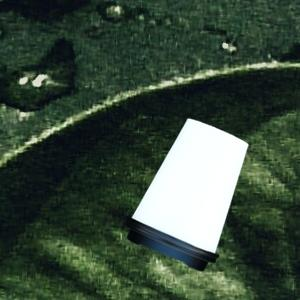cup: (125, 117, 250, 270)
